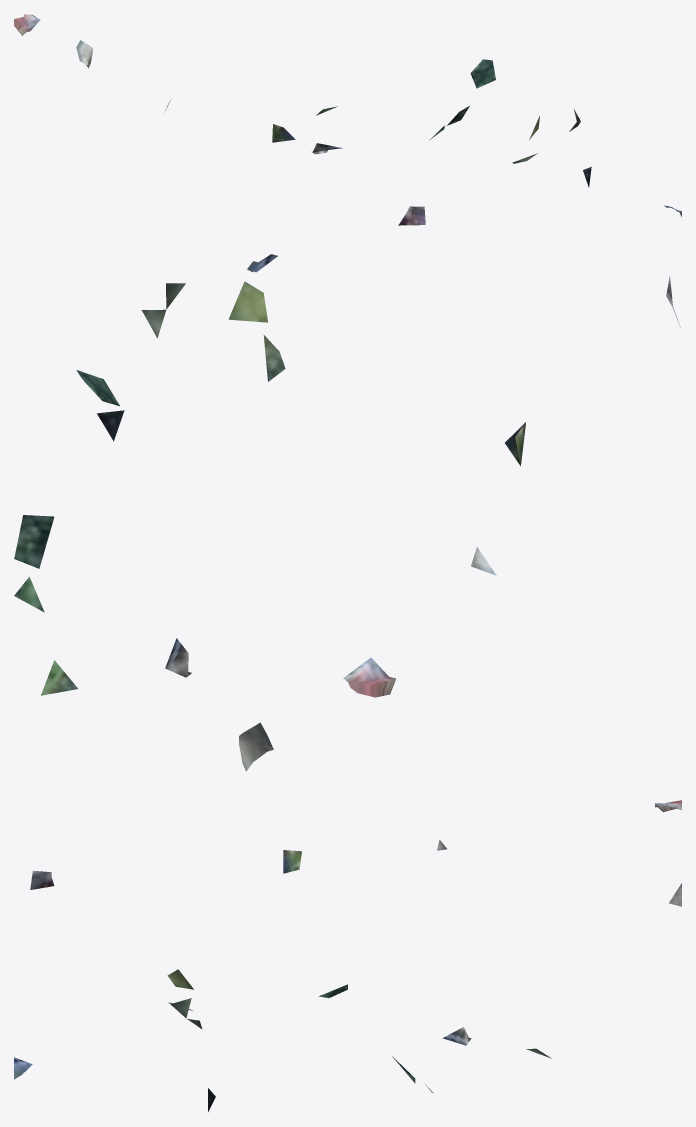
3 views of the same model, one above another, from view 1: azimuth 30°, elevation 25°; view 2: azimuth 150°, elevation 25°; view 3: azimuth 270°, elevation 25° (orthographic). The views are drawn at different scales.
Visible parts, largest first — view 1: 30436272704361604527_1; view 2: 30436272704361604527_1; view 3: 30436272704361604527_1.
Part boxes in pixels (x1=…): 30436272704361604527_1: x1=14, y1=14, x2=681, y2=225; 30436272704361604527_1: x1=14, y1=254, x2=680, y2=771; 30436272704361604527_1: x1=14, y1=800, x2=681, y2=1111.
Bounding box in the file's own units: 27.31 × 8.32 × 38.26.
1 material, 1 textured.
